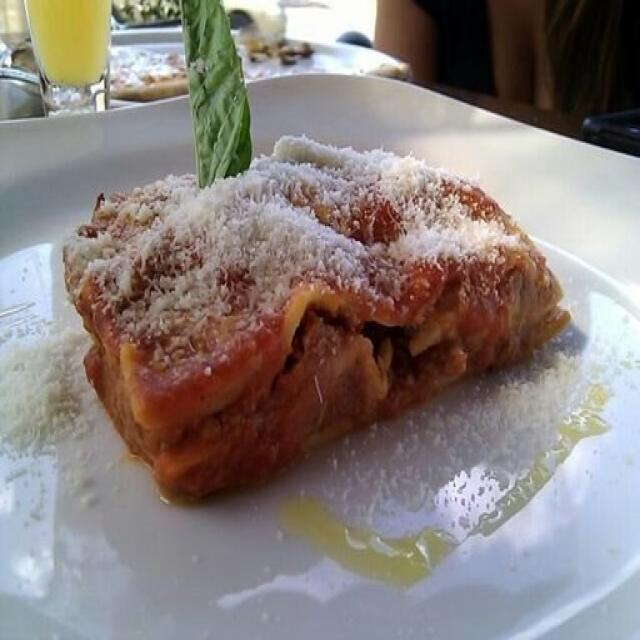Lasagna: (54, 140, 576, 508)
